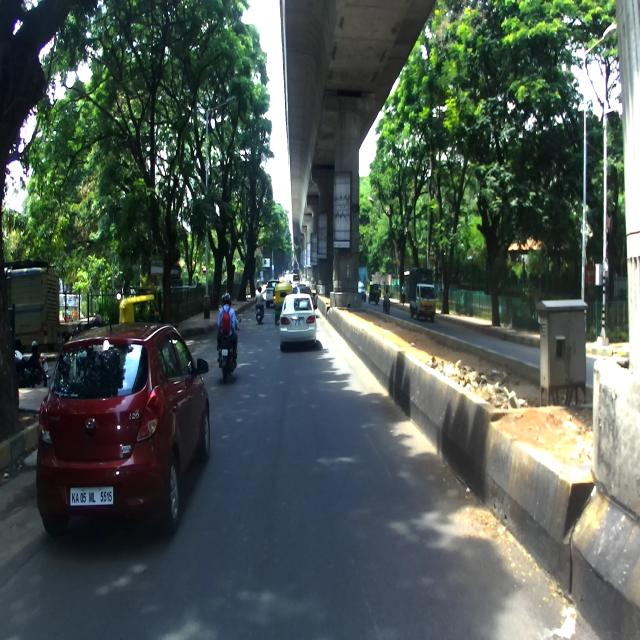car ahead at: (34, 332, 217, 552), (273, 287, 321, 351)
